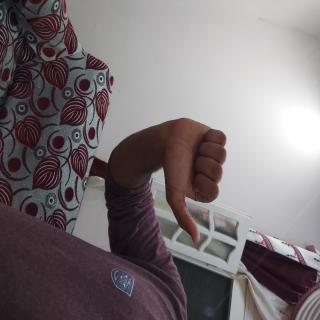DAD: (80, 120, 189, 228)
